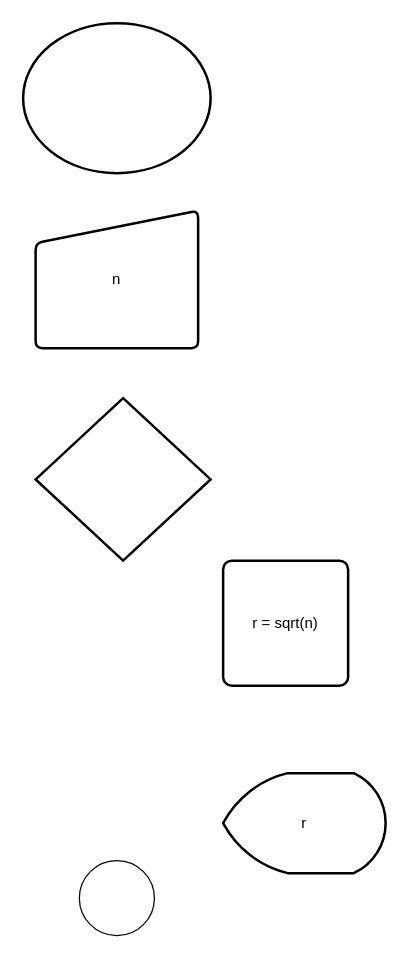
The diagram is 408 pixels wide and 958 high, and some of its shapes have lost their labels. The shapes that lost their labels are listed below. From the top down, each one's centre as x and y in pixels, then its label:
At [116,97]: "Inicio".
At [122,478]: "n > 0".
